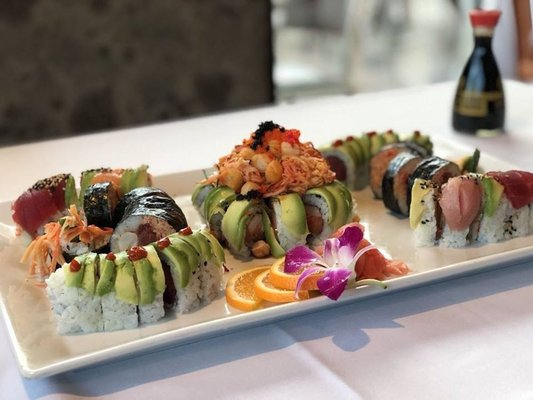burger: (452, 4, 506, 138)
curry: (3, 75, 532, 399)
